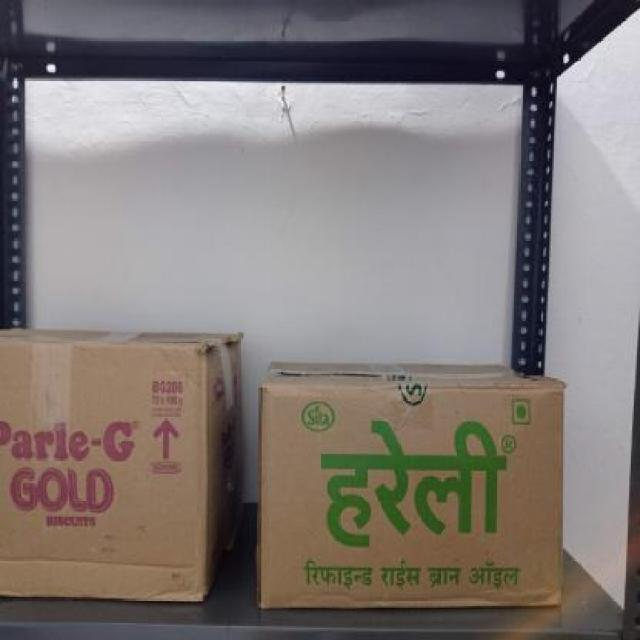box: (259, 386, 564, 611), (0, 344, 208, 596)
